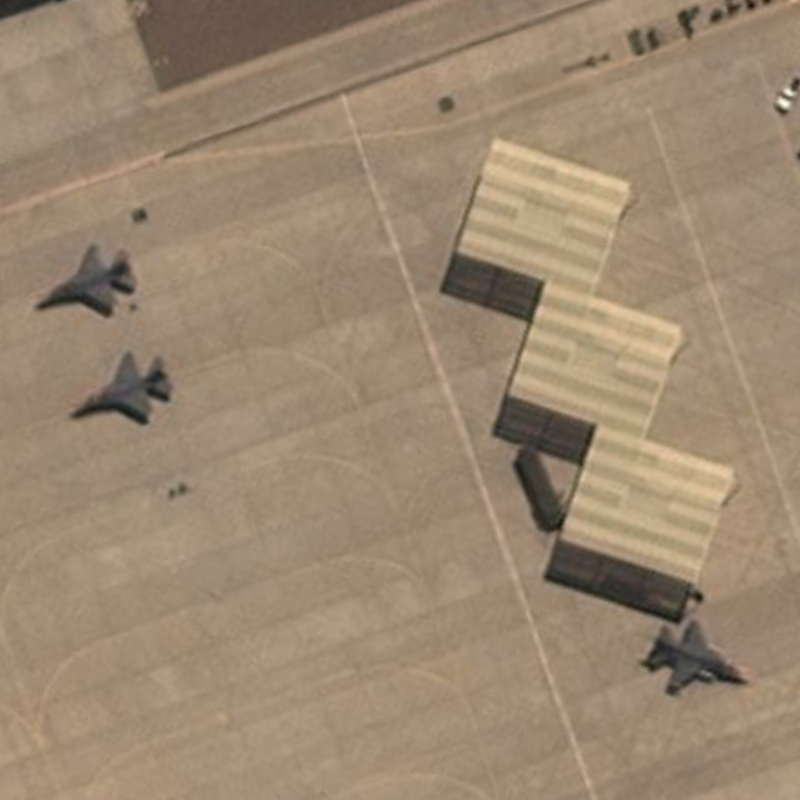A5: (29, 237, 143, 325), (60, 345, 179, 429), (639, 615, 753, 701)
